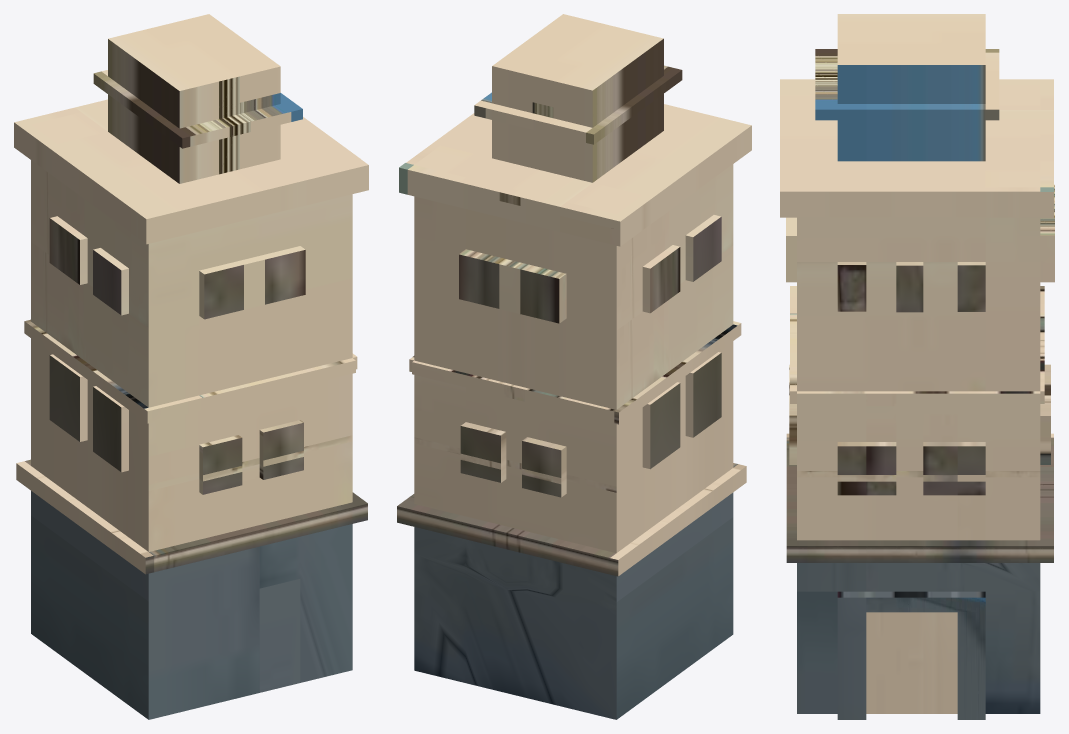
Rendered from Building2_01.fbx.
The picture shows the model from 3 angles, left to right: view 1: azimuth 30°, elevation 25°; view 2: azimuth 150°, elevation 25°; view 3: azimuth 270°, elevation 25°; orthographic projection. The views are drawn at different scales.
Parts seen in each view (by area): view 1: Cube; view 2: Cube; view 3: Cube.
Boxes of the visible parts, x1,y1,x2,y2 form: Cube: (14,14,368,719); Cube: (397,14,751,719); Cube: (780,14,1054,719).
Size of the model in its own units: 226 by 222 by 565.
1 material, 1 textured.
